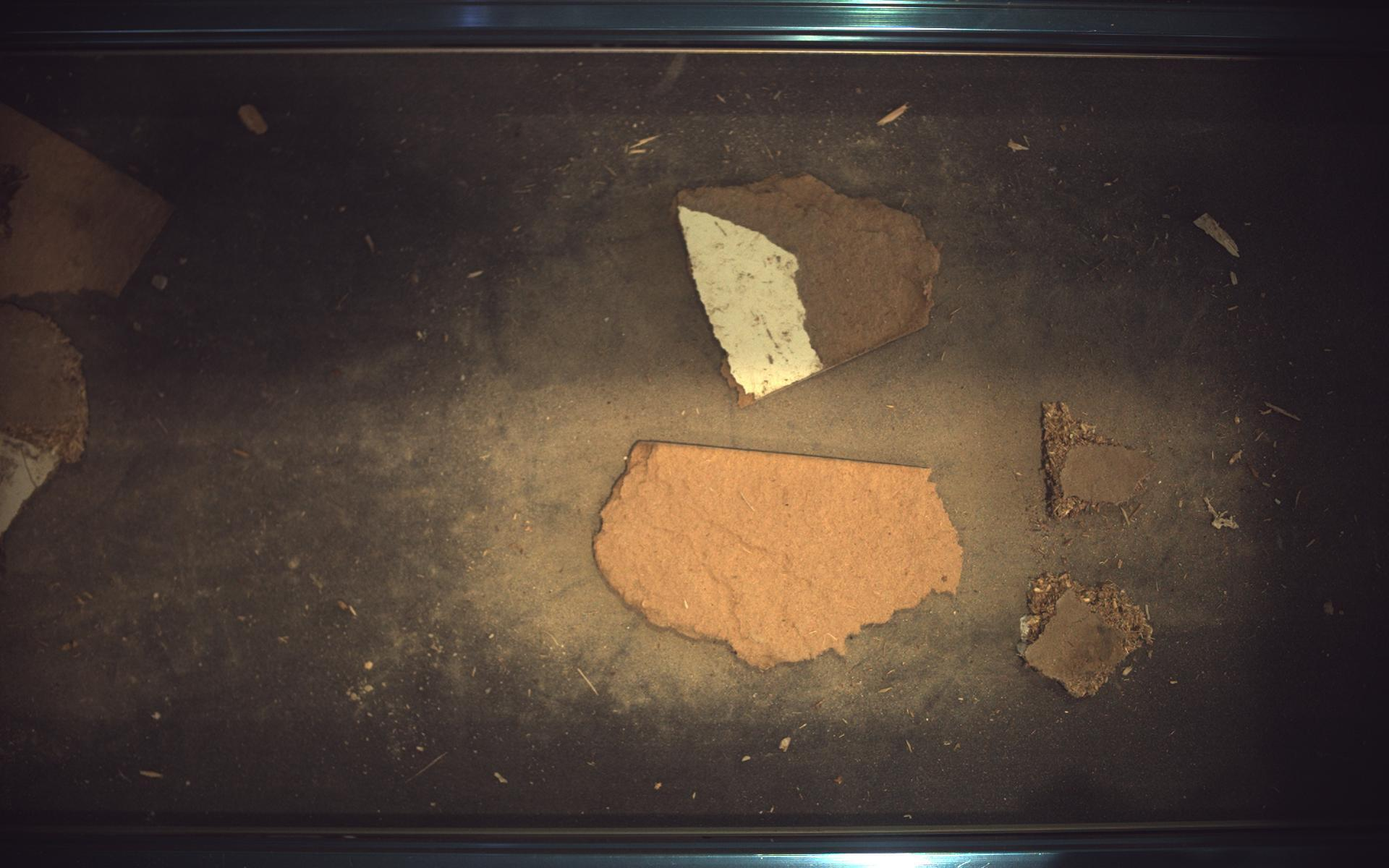wood: (595, 443, 965, 670), (678, 174, 942, 406), (1, 103, 171, 298), (1, 304, 87, 535), (1020, 574, 1155, 699), (1044, 402, 1158, 519)
